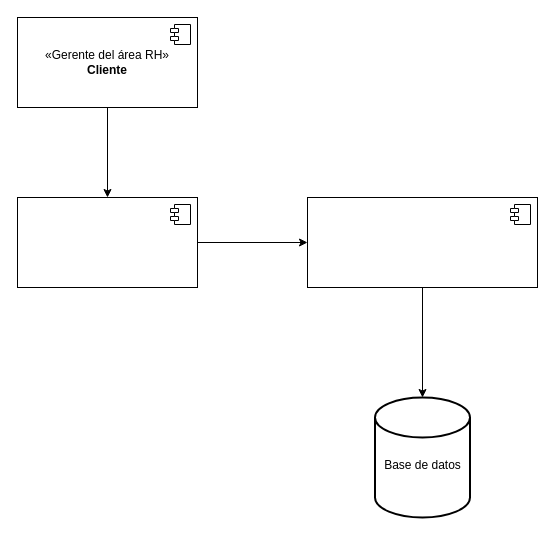
The diagram is 555 pixels wide and 536 high, and some of its shapes have lost their labels. Here are the shapes that lost their labels. From the top down, the centre of each, then its label:
[107,242]: «RH manager web» Front-end
[422,242]: «RH application» Aplicación
